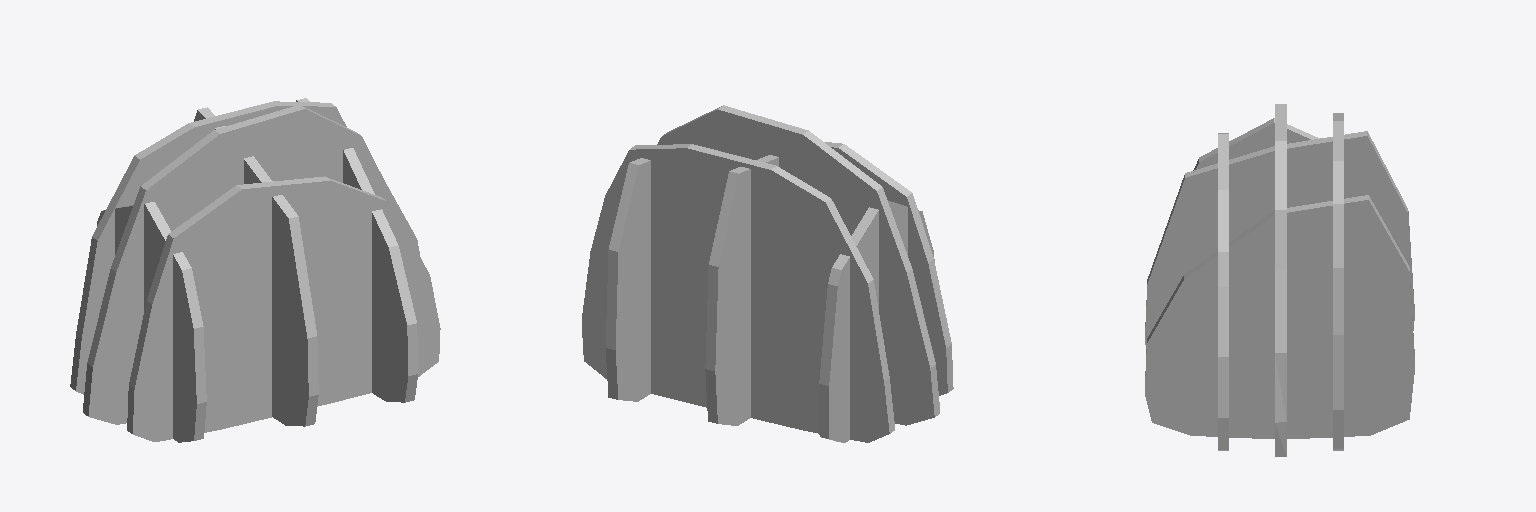
The model's file is slot_rock3.obj.
The picture shows the model from 3 angles: view 1: azimuth 30°, elevation 25°; view 2: azimuth 150°, elevation 25°; view 3: azimuth 270°, elevation 25°; orthographic projection.
Parts seen in each view (by area): view 1: rock.002; view 2: rock.002; view 3: rock.002.
Boxes of the visible parts, box(x1,y1,x2,y2) form: rock.002: box(70, 98, 440, 442); rock.002: box(582, 105, 953, 442); rock.002: box(1145, 104, 1414, 456).
Bounding box in the file's own units: 2.05 × 1.58 × 1.41.